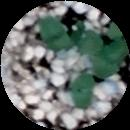Basil: (98, 42, 128, 77), (42, 18, 69, 53), (73, 27, 99, 54), (75, 73, 95, 107)
